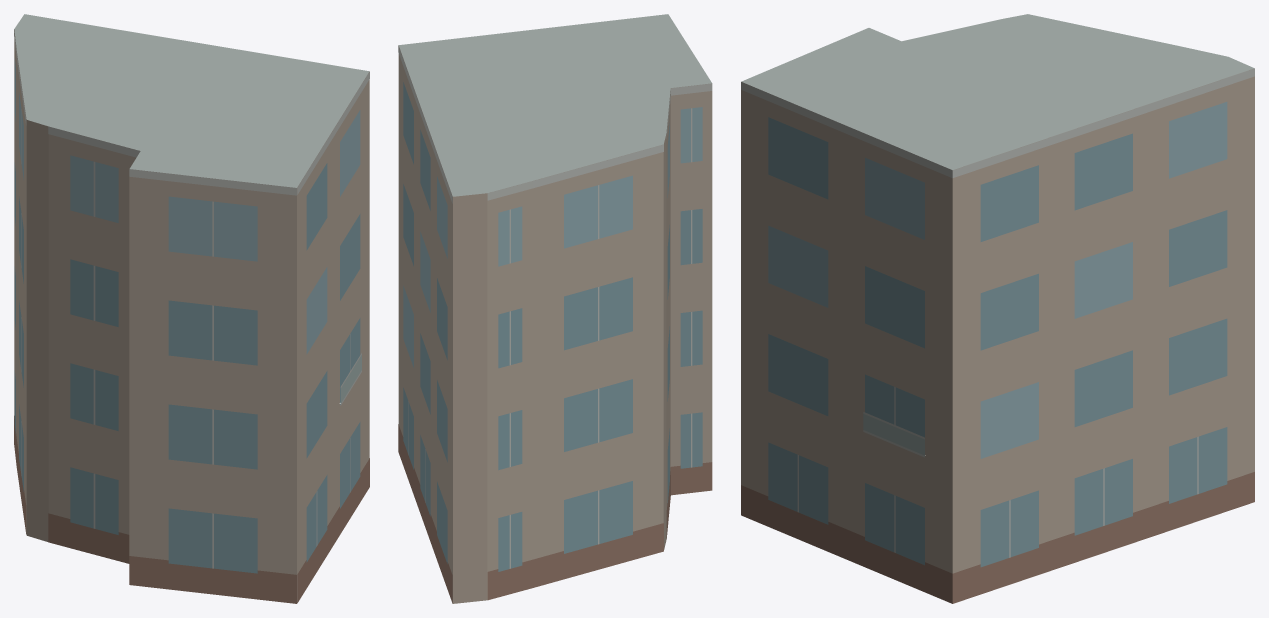
The model's file is survey-upis-32716875.glb.
The picture shows the model from 3 angles, left to right: view 1: azimuth 30°, elevation 25°; view 2: azimuth 150°, elevation 25°; view 3: azimuth 270°, elevation 25°; orthographic projection. The views are drawn at different scales.
Visible parts, largest first — view 1: survey-upis-32716875.tmp; view 2: survey-upis-32716875.tmp; view 3: survey-upis-32716875.tmp.
Boxes of the visible parts, left/top/right/bottom form: survey-upis-32716875.tmp: left=14, top=14, right=369, bottom=603; survey-upis-32716875.tmp: left=398, top=14, right=712, bottom=603; survey-upis-32716875.tmp: left=741, top=14, right=1254, bottom=603.
Bounding box in the file's own units: 10.14 × 13.12 × 14.09.
